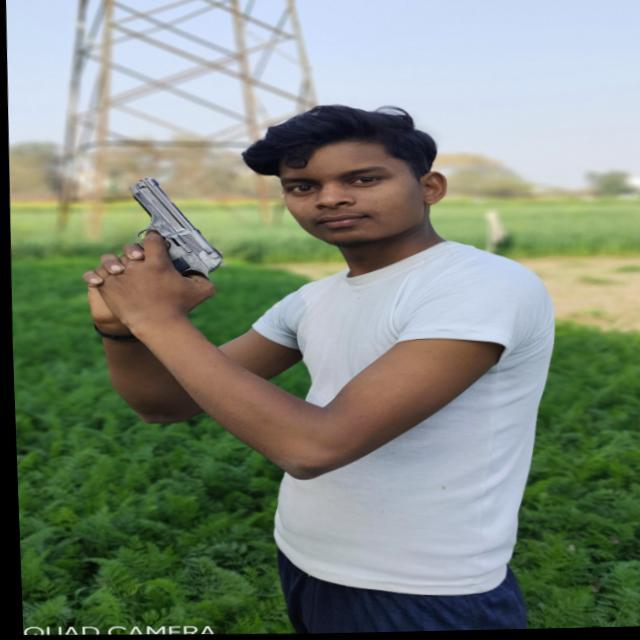weapon: (87, 174, 228, 300)
